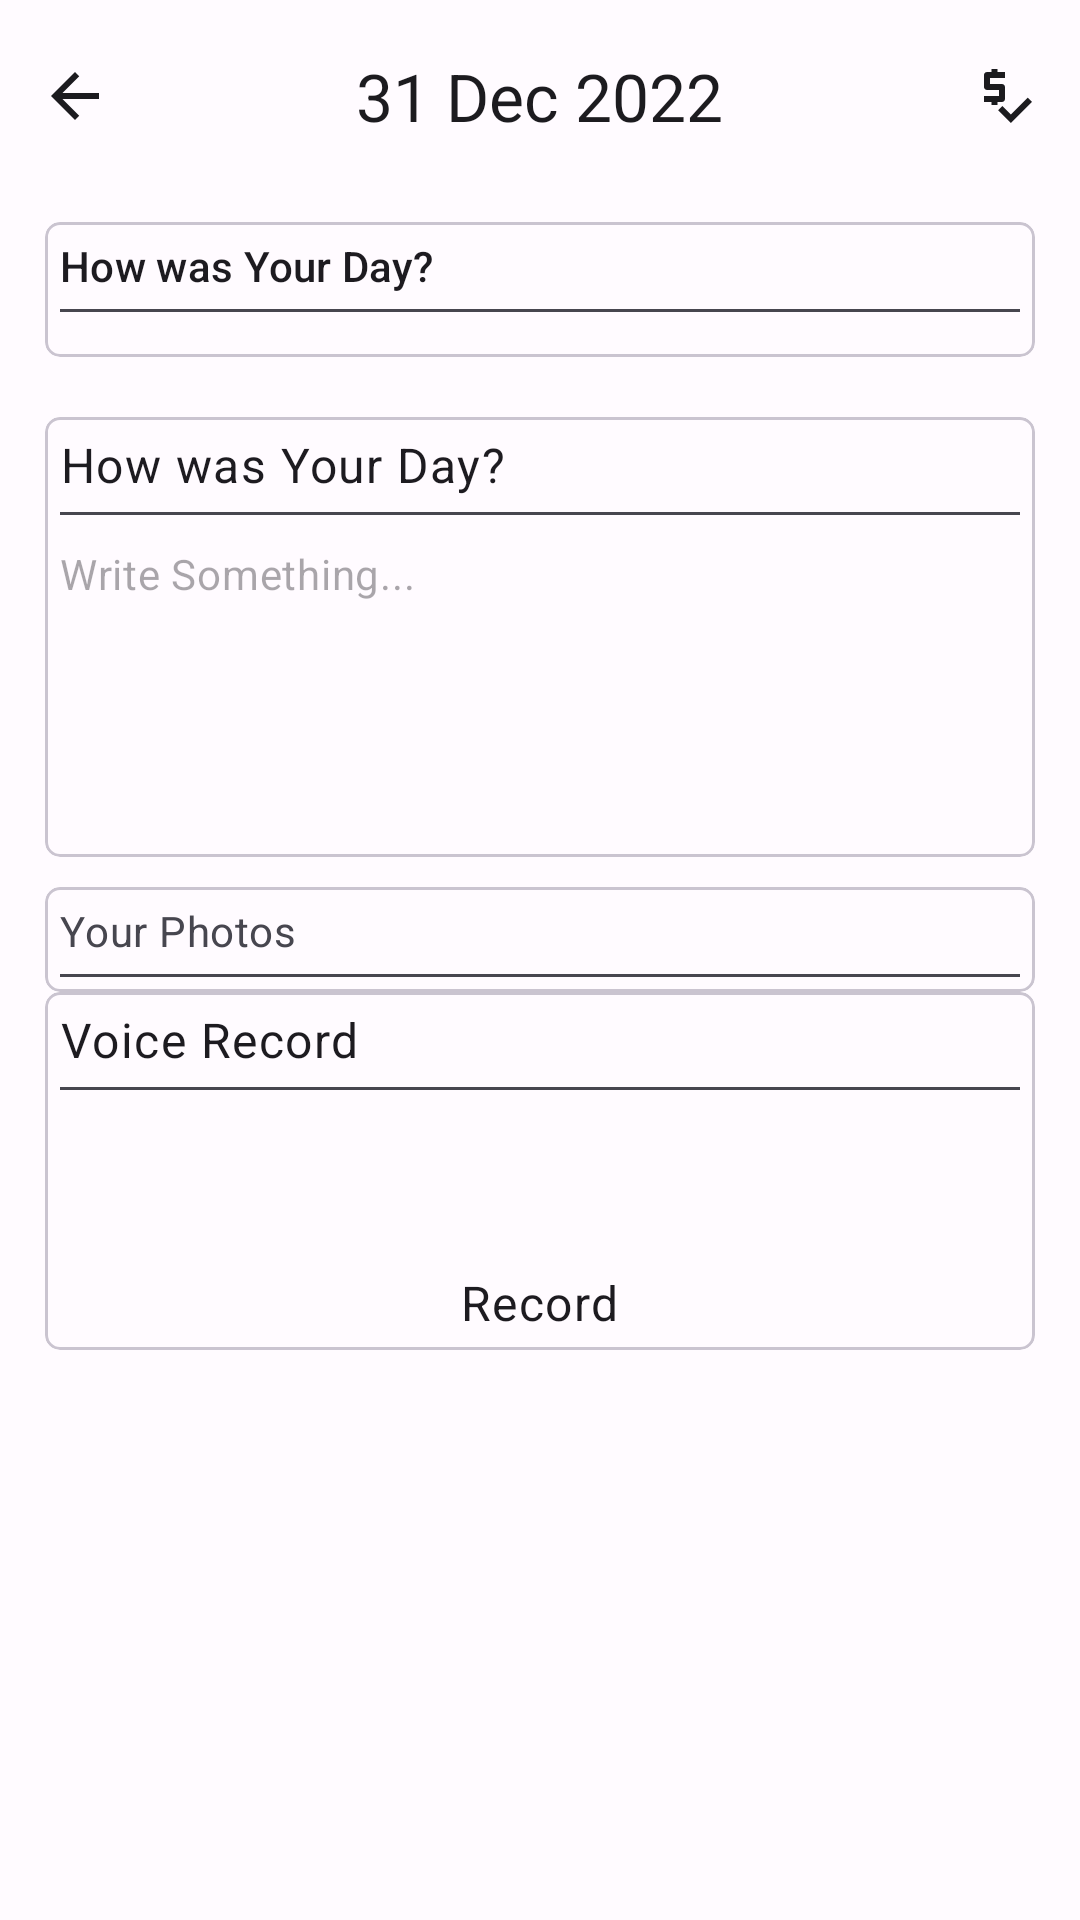

Where icons sit on this 1080 × 1920 app screen, as (x1, y1, x2, y2):
arrow back: (51, 72, 99, 120)
price check: (984, 69, 1032, 123)
